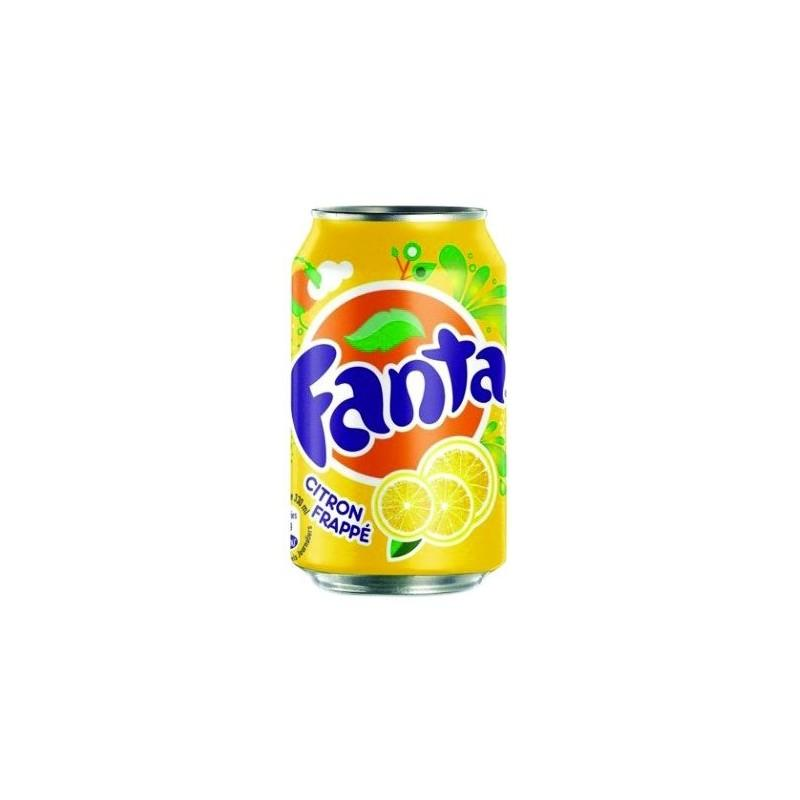metal: (291, 205, 506, 596)
